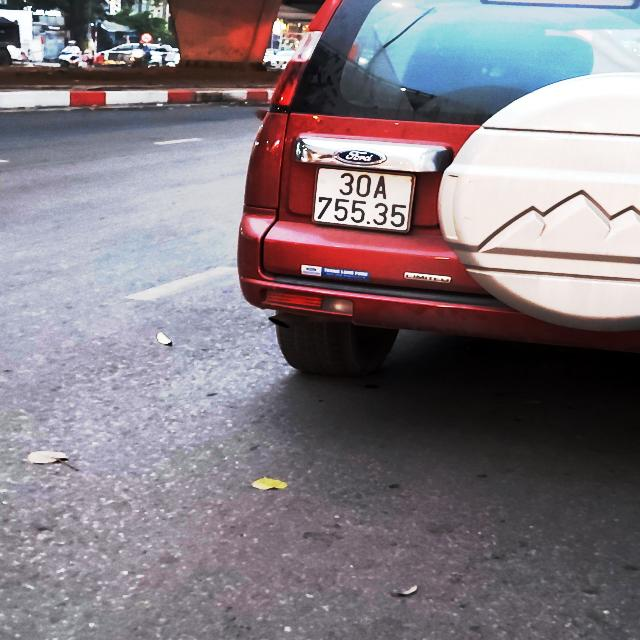license_plate: (310, 165, 420, 237)
